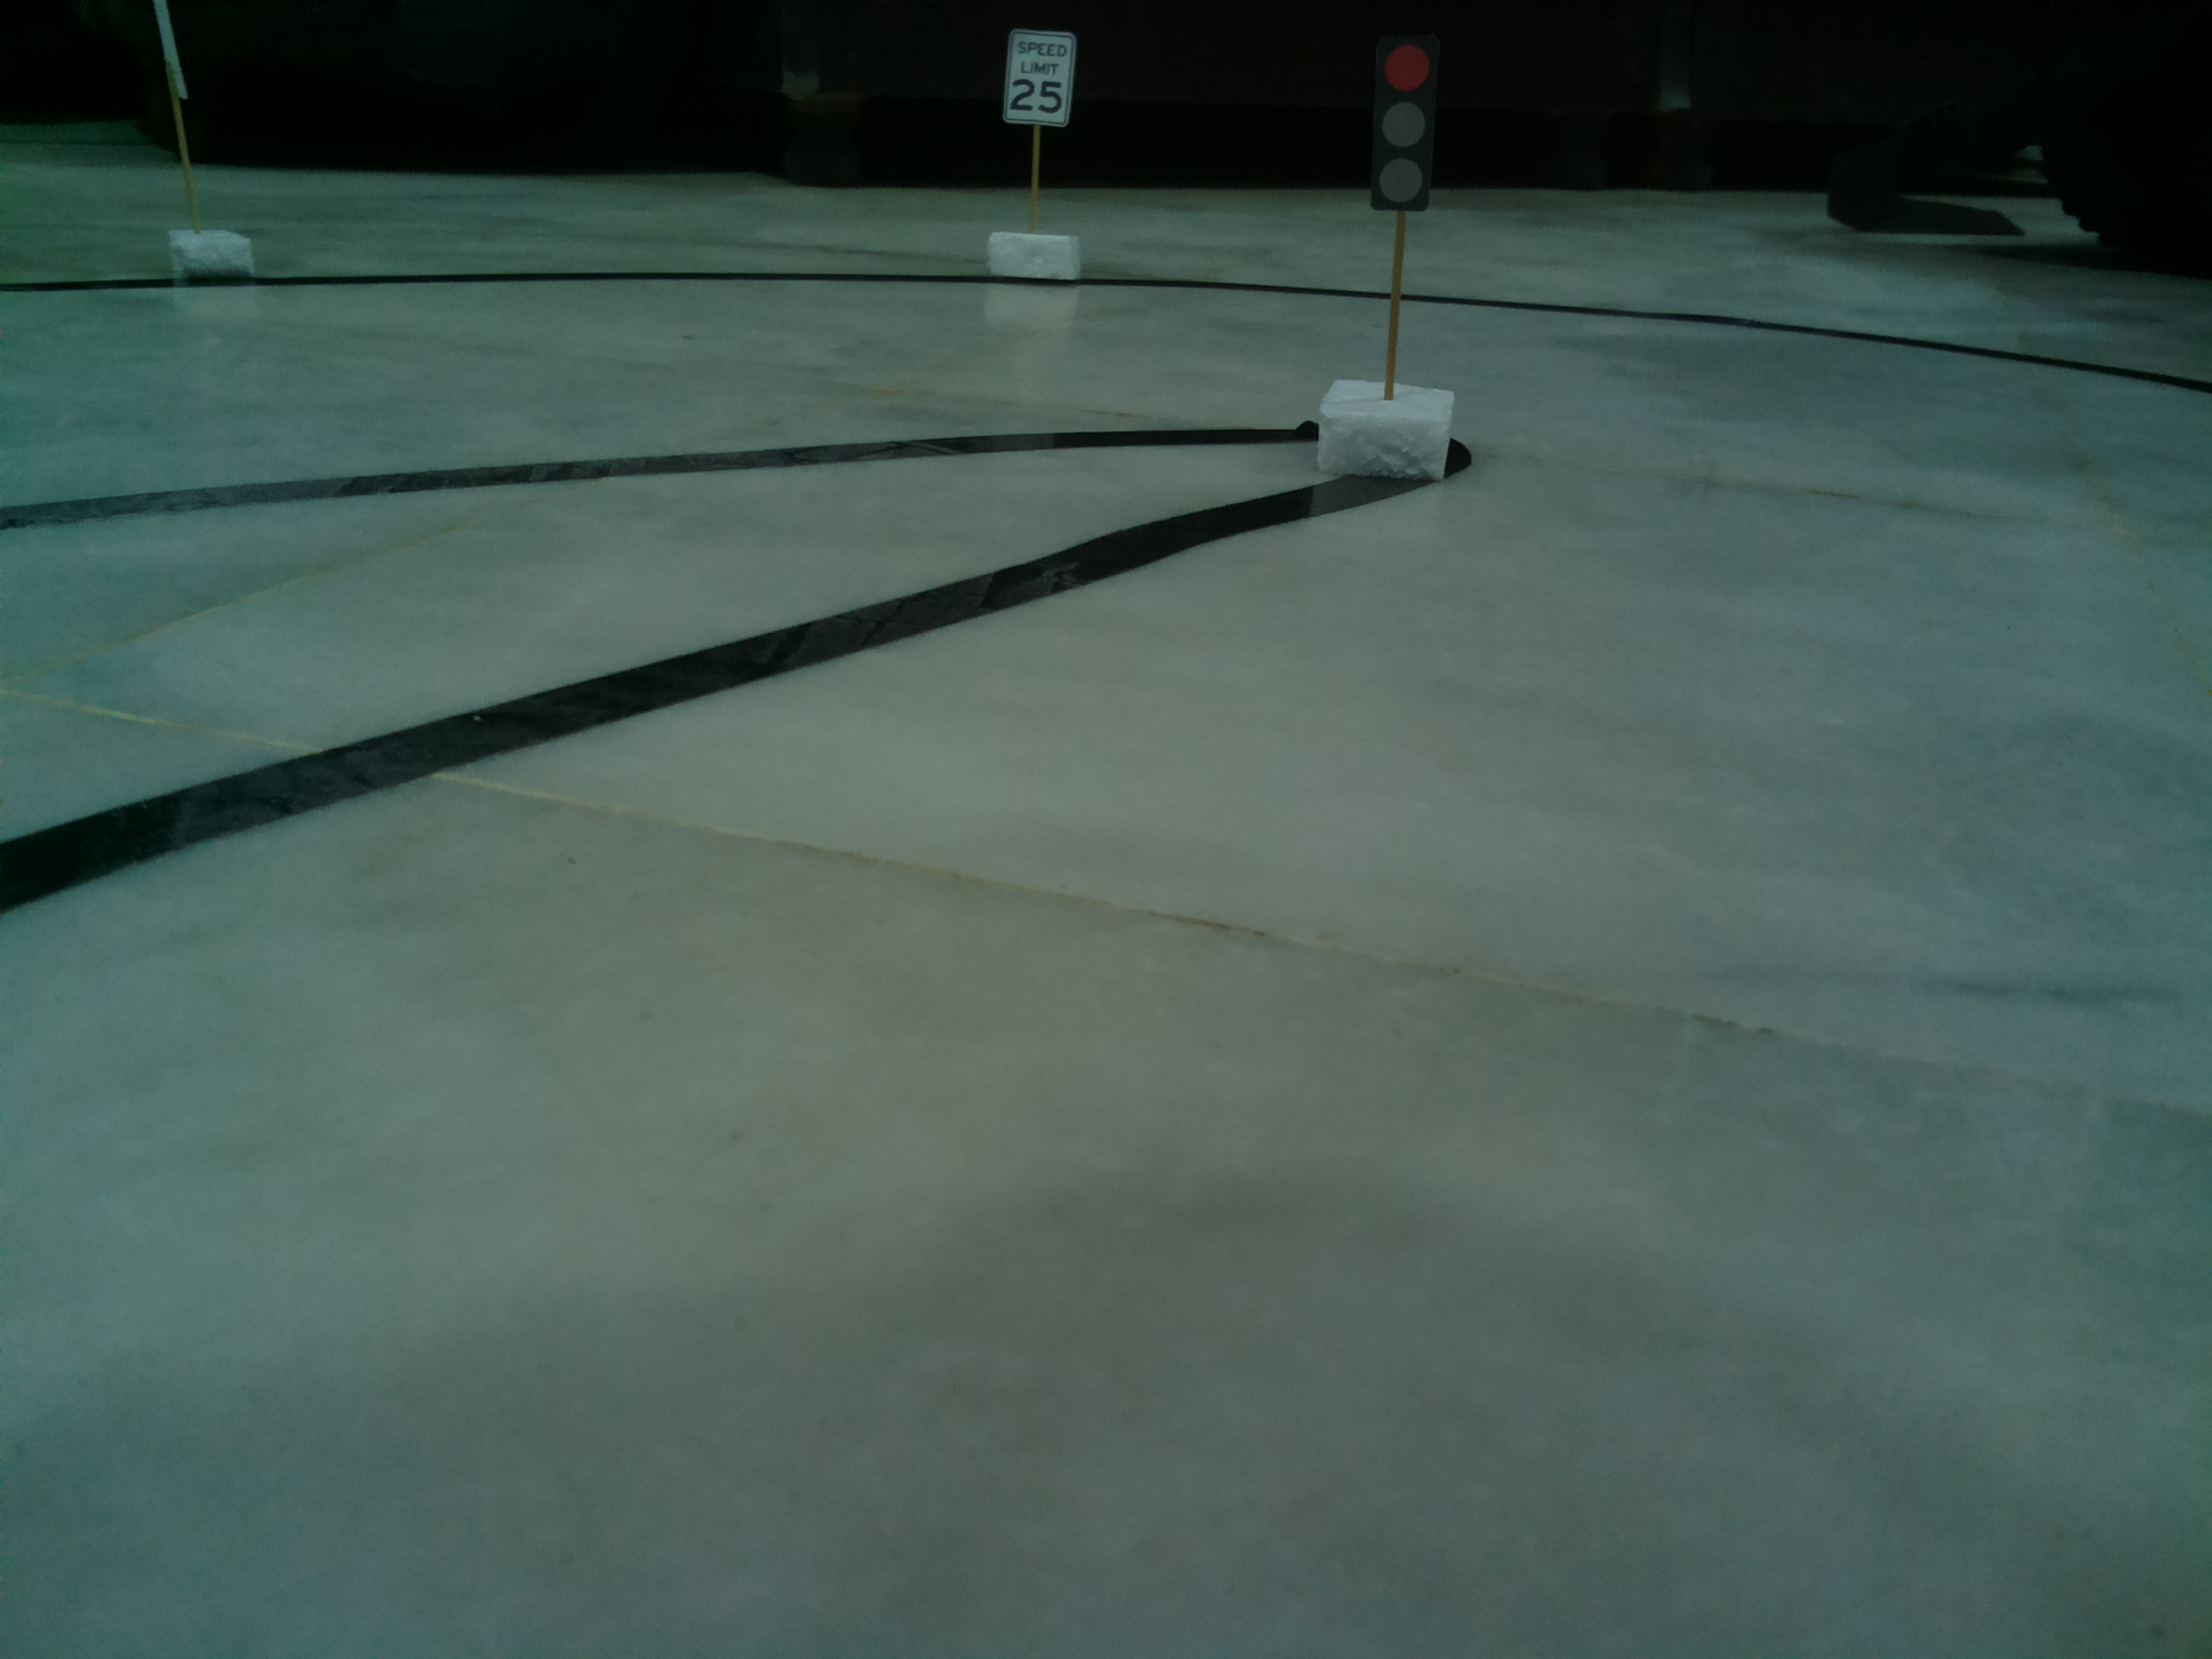Red traffic light: (1367, 37, 1440, 216)
Speed limit 25: (1007, 24, 1073, 132)
